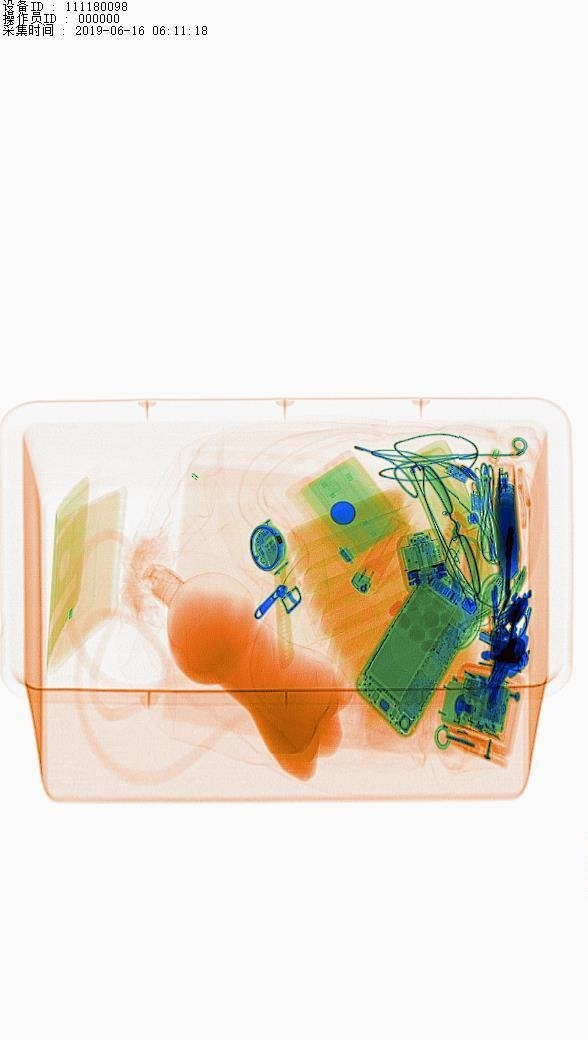NonmetallicFire: (337, 506, 415, 608)
